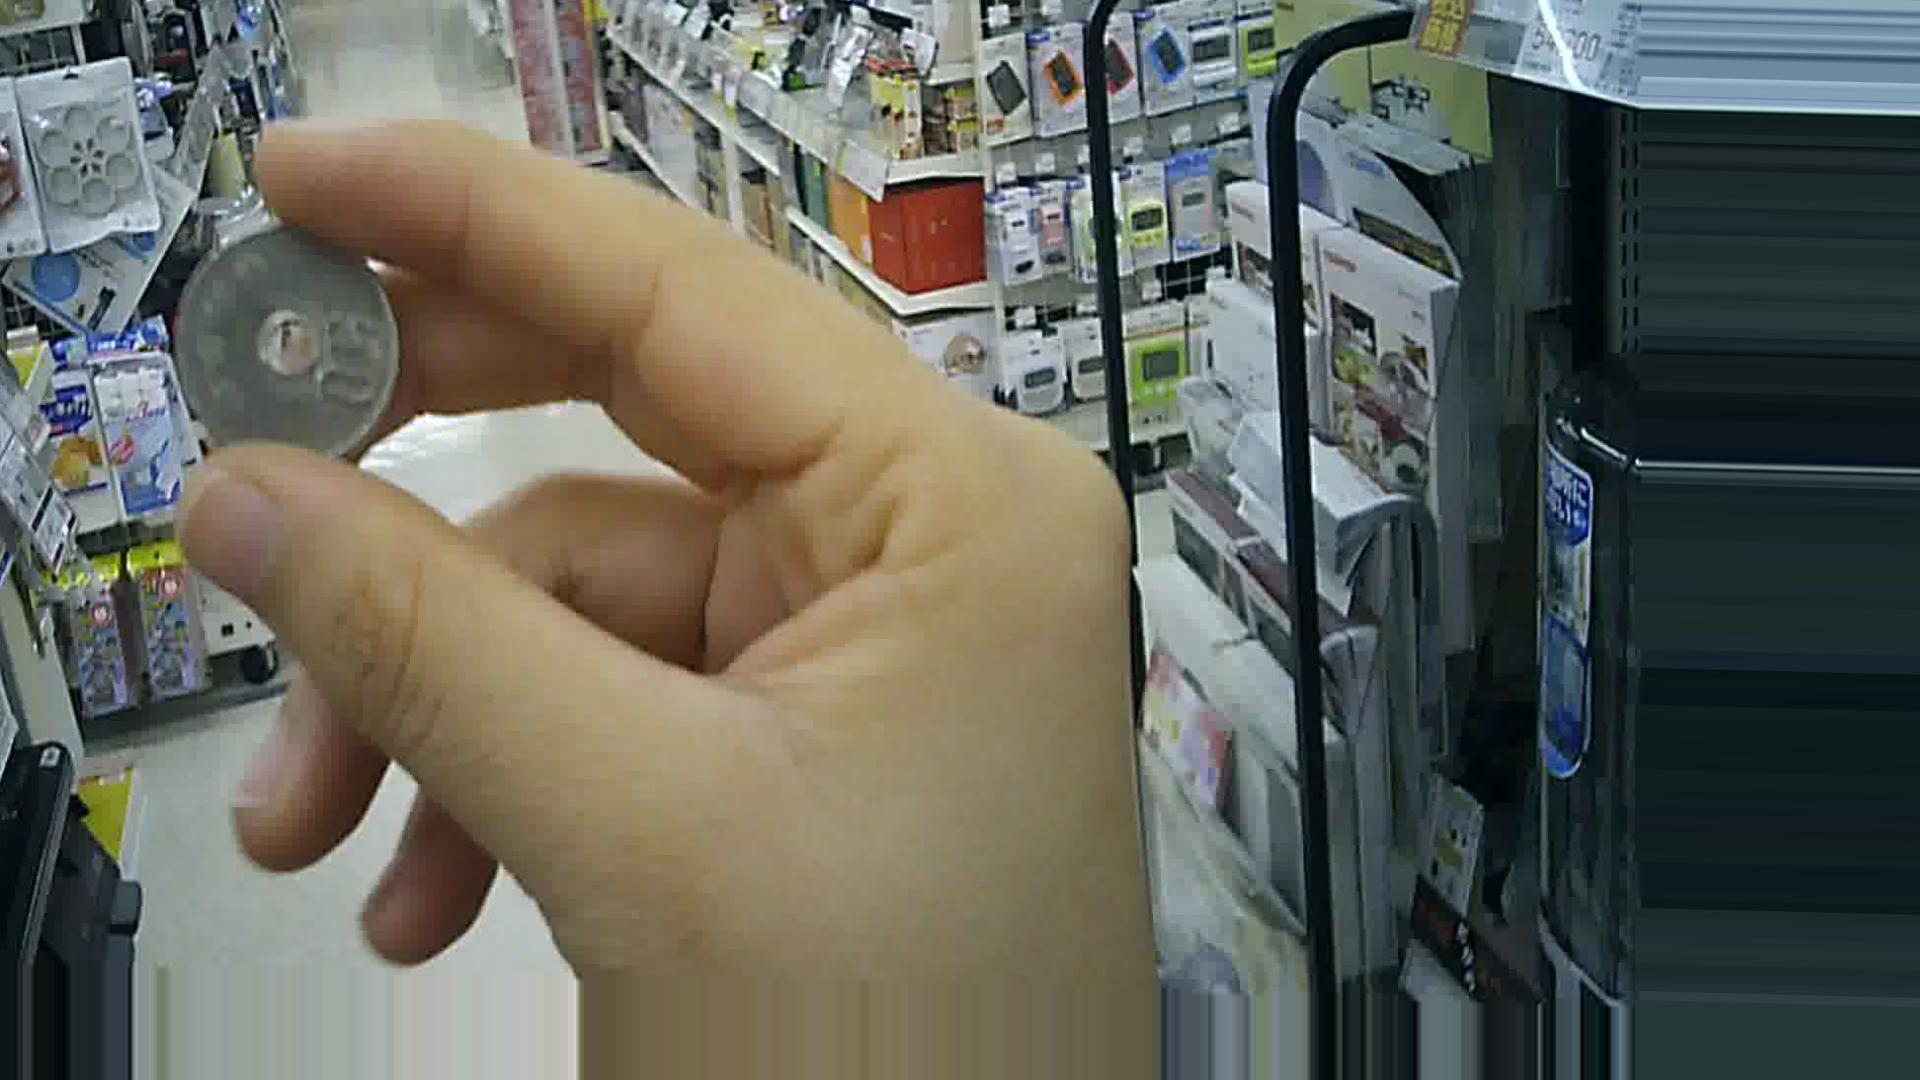50 Yen: (167, 233, 404, 462)
